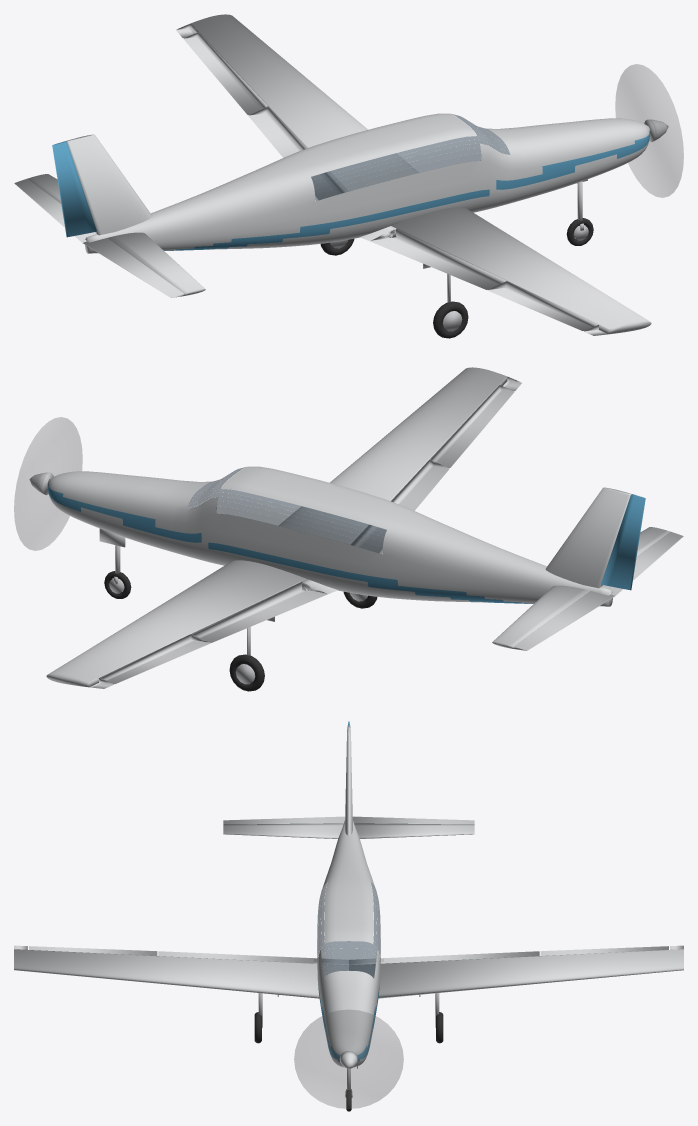
File: sprite_lod0.glb
3 renders of one model, top to bottom at view 1: azimuth 30°, elevation 25°; view 2: azimuth 150°, elevation 25°; view 3: azimuth 270°, elevation 25°, orthographic. The views are drawn at different scales.
Visible parts, largest first — view 1: fuselage, wing_L, wing_R, prop_1_disc, glass, fin, stabilizer, flap_R_1, elevator, rudder, flap_L_1, aileron_L (+2 smaller); view 2: fuselage, wing_L, wing_R, prop_1_disc, glass, fin, stabilizer, flap_L_1, elevator, rudder, flap_R_1, aileron_R (+2 smaller); view 3: fuselage, wing_L, wing_R, prop_1_disc, stabilizer, glass, elevator, flap_L_1, flap_R_1, fin, aileron_L, aileron_R.
Boxes of the visible parts, box(x1,y1,x2,y2) form: fuselage: box(85, 113, 650, 253); wing_L: box(176, 14, 418, 191); wing_R: box(360, 207, 651, 335); prop_1_disc: box(615, 64, 683, 197); glass: box(311, 114, 509, 200); fin: box(66, 134, 152, 235); stabilizer: box(27, 174, 205, 295); flap_R_1: box(370, 229, 505, 289); elevator: box(14, 179, 183, 297); rudder: box(52, 141, 96, 237); flap_L_1: box(248, 106, 347, 199); aileron_L: box(183, 32, 267, 114); fuselage: box(47, 466, 612, 606); wing_L: box(46, 560, 337, 688); wing_R: box(279, 367, 521, 544); prop_1_disc: box(14, 417, 82, 550); glass: box(188, 467, 386, 553); fin: box(545, 487, 631, 588); stabilizer: box(492, 527, 670, 648); flap_L_1: box(192, 582, 327, 642); elevator: box(514, 532, 683, 650); rudder: box(601, 494, 645, 590); flap_R_1: box(350, 459, 449, 552); aileron_R: box(430, 385, 514, 467); fuselage: box(317, 821, 380, 1067); wing_L: box(349, 945, 683, 998); wing_R: box(14, 945, 348, 998); prop_1_disc: box(294, 1010, 403, 1108); stabilizer: box(223, 823, 474, 838); glass: box(317, 882, 380, 977); elevator: box(223, 816, 474, 824); flap_L_1: box(384, 951, 539, 963); flap_R_1: box(158, 951, 313, 963); fin: box(345, 726, 352, 835); aileron_L: box(540, 946, 668, 955); aileron_R: box(29, 946, 157, 955).
Size of the model in its own units: 12.26 by 4.45 by 14.4.
